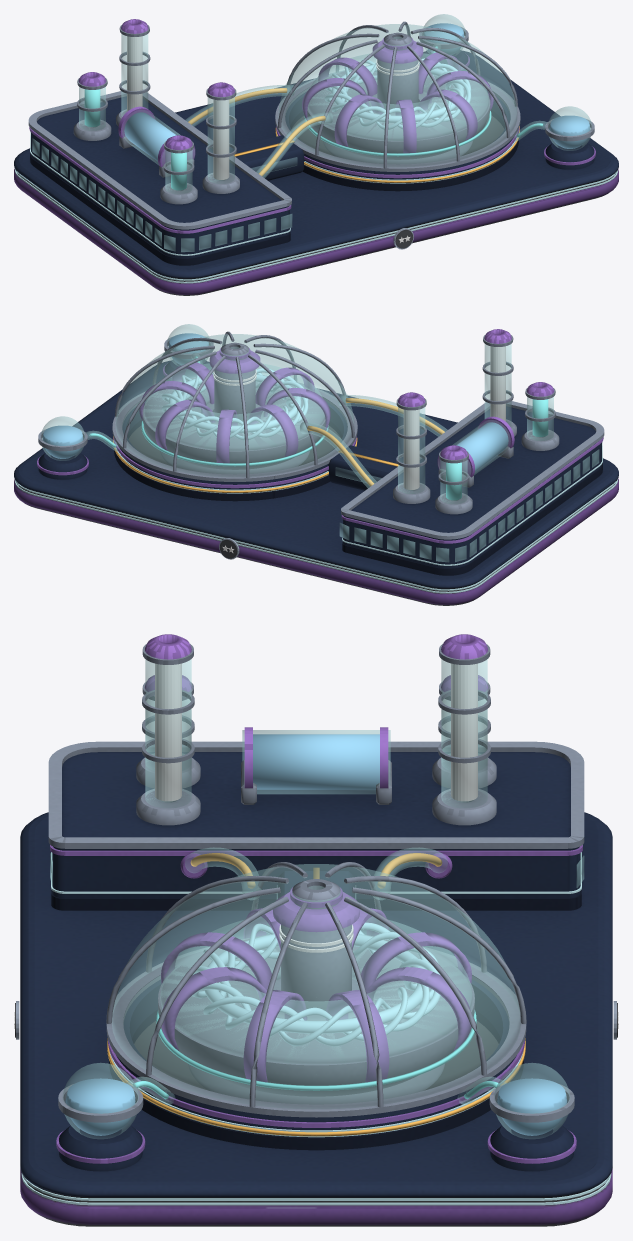
File: SM_Evo_FusionPlant.fbx
3 views of the same model, one above another, from view 1: azimuth 30°, elevation 25°; view 2: azimuth 150°, elevation 25°; view 3: azimuth 270°, elevation 25° (orthographic). The views are drawn at different scales.
Parts seen in each view (by area): view 1: SMN_Evo_FusionPlant, Emblem_Fx_FusionPlant, SpinOrbit_FusionPlant; view 2: SMN_Evo_FusionPlant, Emblem_Fx_FusionPlant, SpinOrbit_FusionPlant; view 3: SMN_Evo_FusionPlant, Emblem_Fx_FusionPlant, SpinOrbit_FusionPlant.
Part boxes in pixels (x1,y1,x2,y2): SMN_Evo_FusionPlant: (14,19,618,295); Emblem_Fx_FusionPlant: (15,14,617,283); SpinOrbit_FusionPlant: (325,58,471,129); SMN_Evo_FusionPlant: (14,329,618,605); Emblem_Fx_FusionPlant: (15,324,617,593); SpinOrbit_FusionPlant: (162,368,308,440); SMN_Evo_FusionPlant: (15,634,617,1226); Emblem_Fx_FusionPlant: (14,659,618,1205); SpinOrbit_FusionPlant: (192,922,440,1046).
Size of the model in its own units: 2.84 by 0.982 by 1.88.
